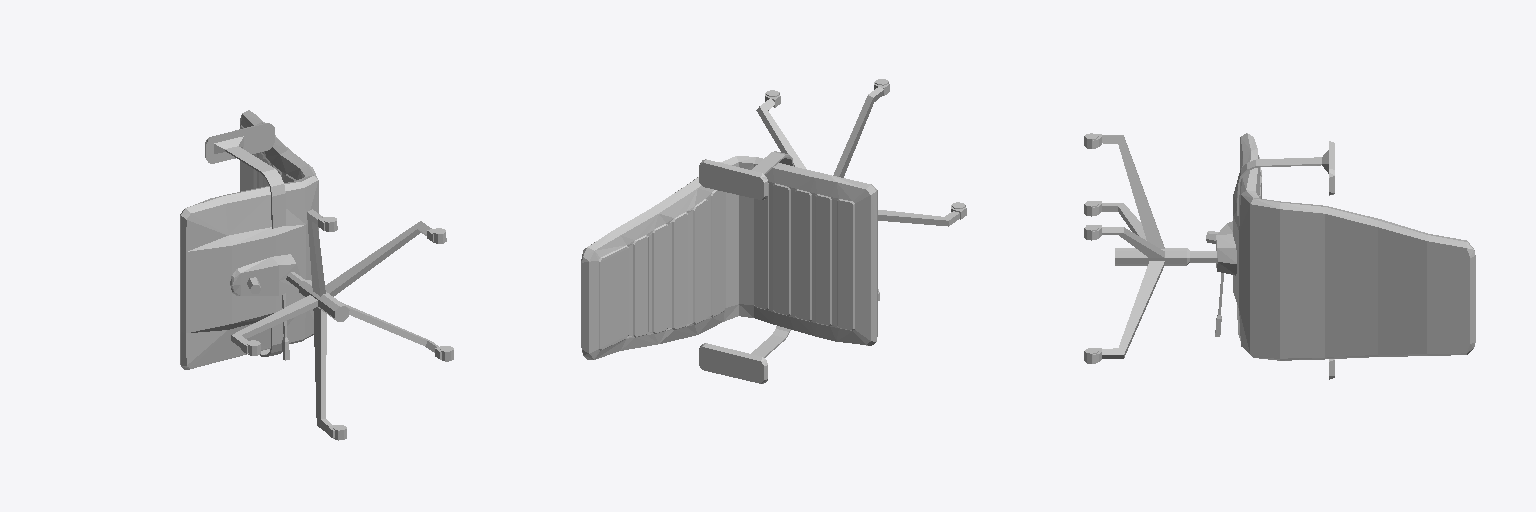
File: converted5_chair_uv.obj
3 renders of one model, left to right at view 1: azimuth 30°, elevation 25°; view 2: azimuth 150°, elevation 25°; view 3: azimuth 270°, elevation 25°, orthographic.
Visible parts, largest first — view 1: Chair_01_Chair__1__lib; view 2: Chair_01_Chair__1__lib; view 3: Chair_01_Chair__1__lib.
Part boxes in pixels (left/top/right/bottom): Chair_01_Chair__1__lib: left=180, top=110, right=453, bottom=440; Chair_01_Chair__1__lib: left=581, top=79, right=966, bottom=383; Chair_01_Chair__1__lib: left=1084, top=133, right=1475, bottom=379.
Size of the model in its own units: 221 by 224 by 361.